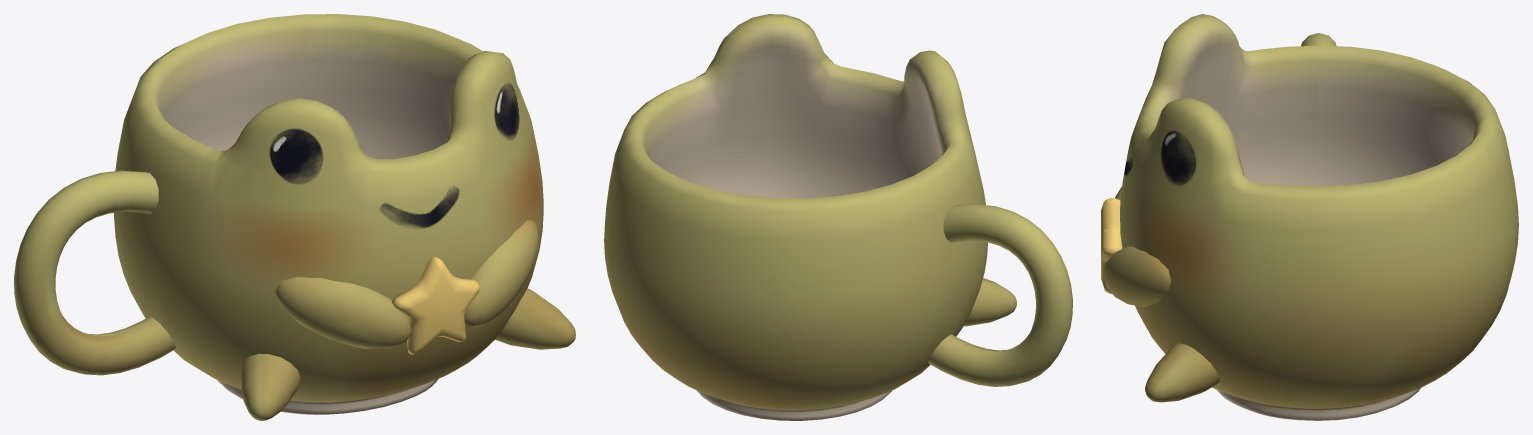
The model's file is Frog_Cup.obj.
3 views of the same model, side by side, from view 1: azimuth 30°, elevation 25°; view 2: azimuth 150°, elevation 25°; view 3: azimuth 270°, elevation 25° (orthographic). The views are drawn at different scales.
Visible parts, largest first — view 1: Frog_Cup_Low_tris; view 2: Frog_Cup_Low_tris; view 3: Frog_Cup_Low_tris.
Part boxes in pixels (bbox=[...]): Frog_Cup_Low_tris: bbox=[14, 14, 575, 420]; Frog_Cup_Low_tris: bbox=[604, 14, 1072, 420]; Frog_Cup_Low_tris: bbox=[1101, 14, 1518, 420].
Size of the model in its own units: 0.1993 by 0.1298 by 0.1558.
1 material, 1 textured.
